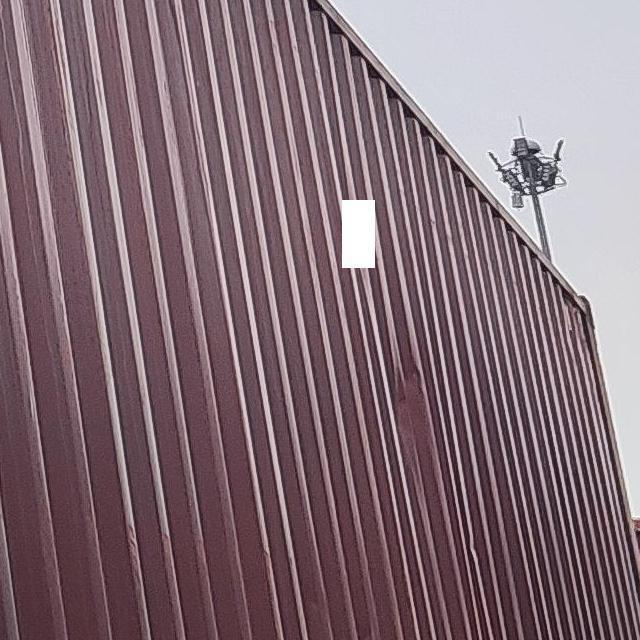dent: (391, 345, 445, 492)
